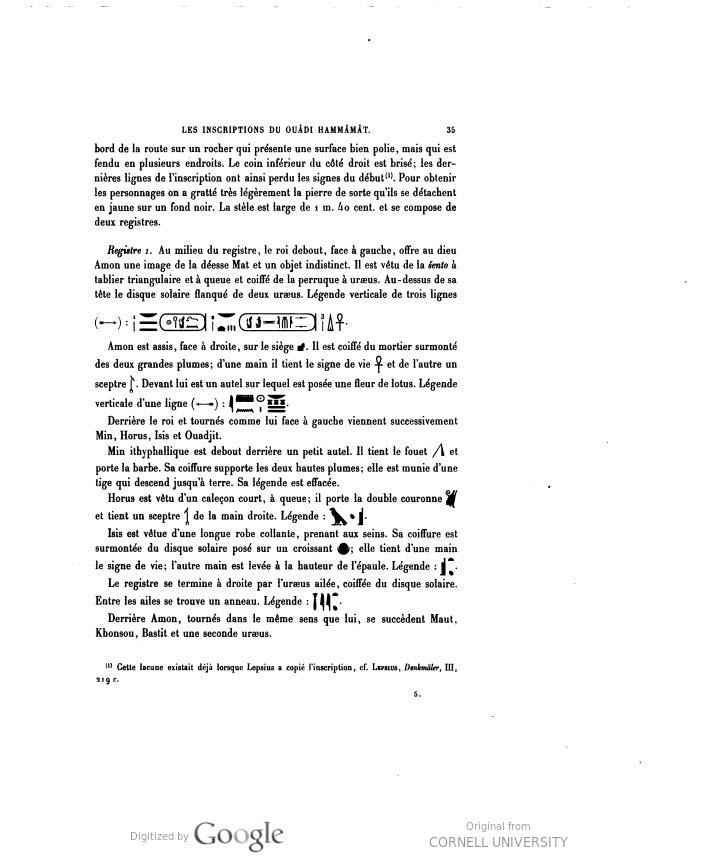circle: (237, 305, 325, 340), (155, 309, 214, 333)
